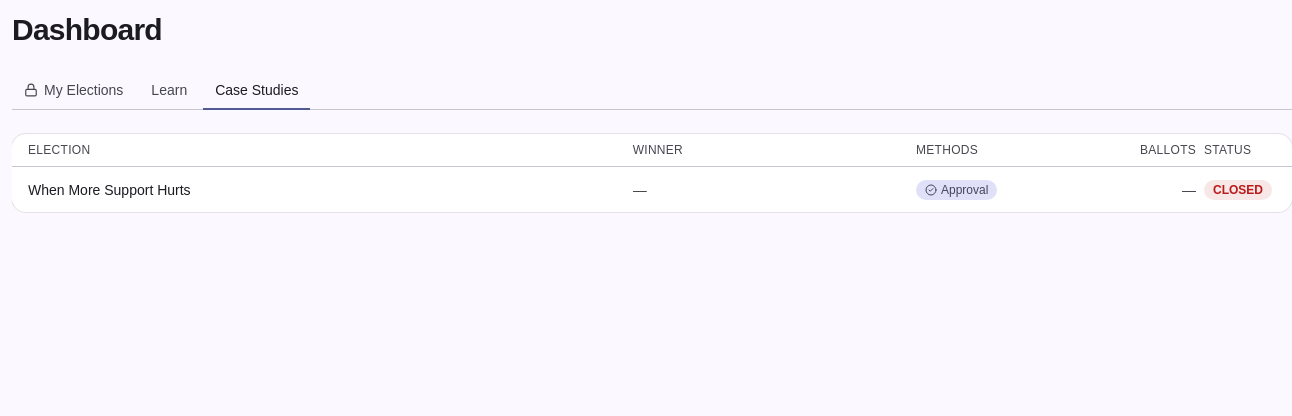
Dashboard › defaults guests to Case Studies and locks account-owned features
The width and height of the screenshot is (1292, 416).
Expected: the link "When More Support Hurts" is shown, x1=28 y1=182 x2=191 y2=198
Click the tab "My Elections" at (74, 91), box x1=12 y1=72 x2=135 y2=110
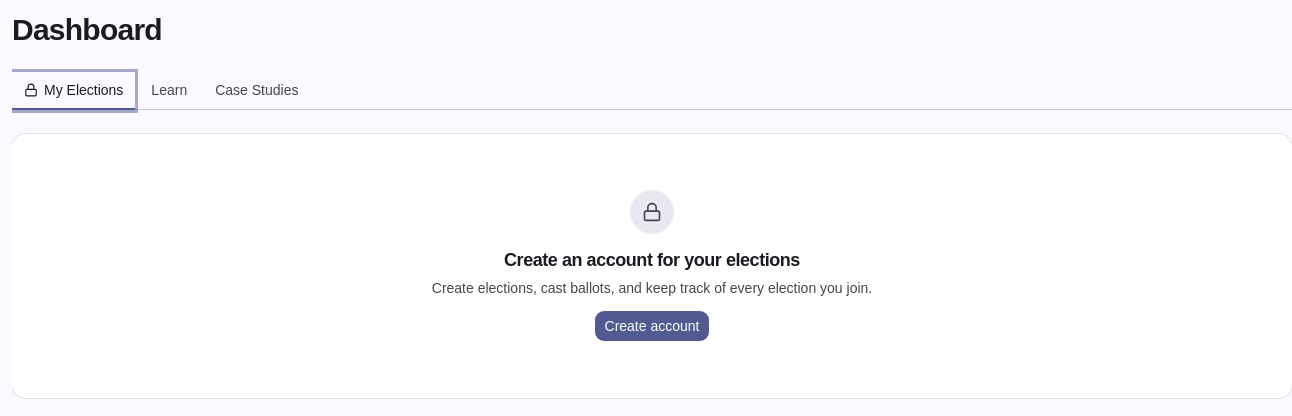
Result: the heading "Create an account for your elections" is shown at x1=504 y1=250 x2=800 y2=270
